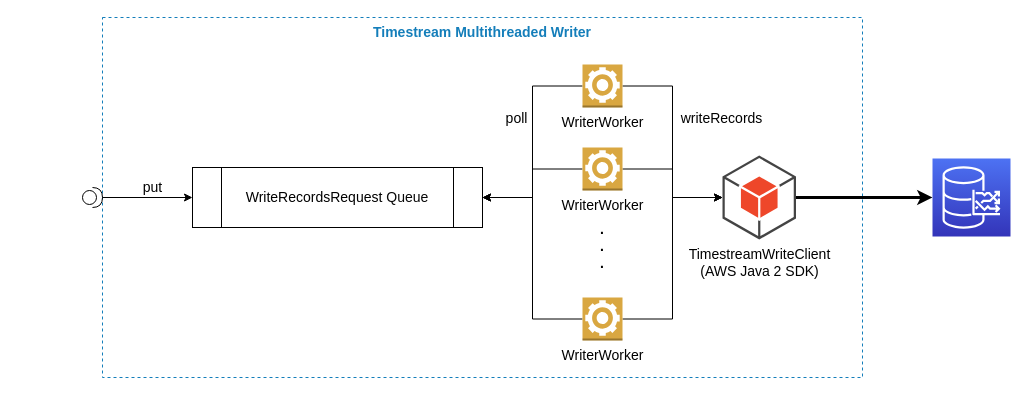
Some shapes in this 1028 by 395 pixel diagram are drawn without their labels. The box of each missing label's shape, as (x1, y1, x2, y2) in pixels:
putWriteRecordRequest: (82, 186, 102, 208)
Timestream: (932, 158, 1010, 236)
